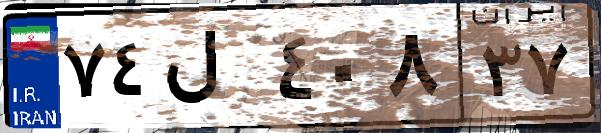0: (330, 28, 385, 110)
3: (475, 38, 525, 113)
4: (270, 28, 330, 110), (110, 28, 158, 98)
7: (57, 26, 110, 100), (525, 38, 570, 115)
8: (385, 28, 445, 110)
ل: (158, 20, 270, 120)
